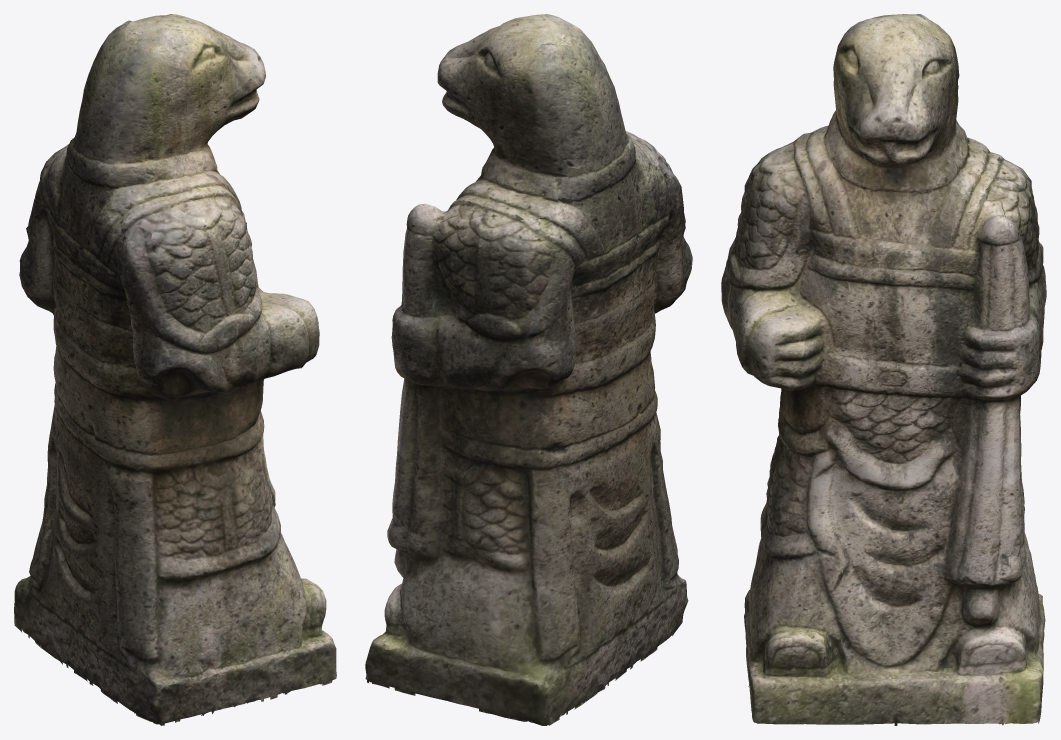
File: stone_snake.glb
The picture shows the model from 3 angles, left to right: view 1: azimuth 30°, elevation 25°; view 2: azimuth 150°, elevation 25°; view 3: azimuth 270°, elevation 25°; orthographic projection. The views are drawn at different scales.
Visible parts, largest first — view 1: LOD0; view 2: LOD0; view 3: LOD0.
Part boxes in pixels (<box>): LOD0: <box>14,14,336,725</box>; LOD0: <box>365,14,692,725</box>; LOD0: <box>721,14,1046,725</box>.
Size of what is drawn, in the model's own units: 9.49 by 28.58 by 12.92.
1 material, 1 textured.
